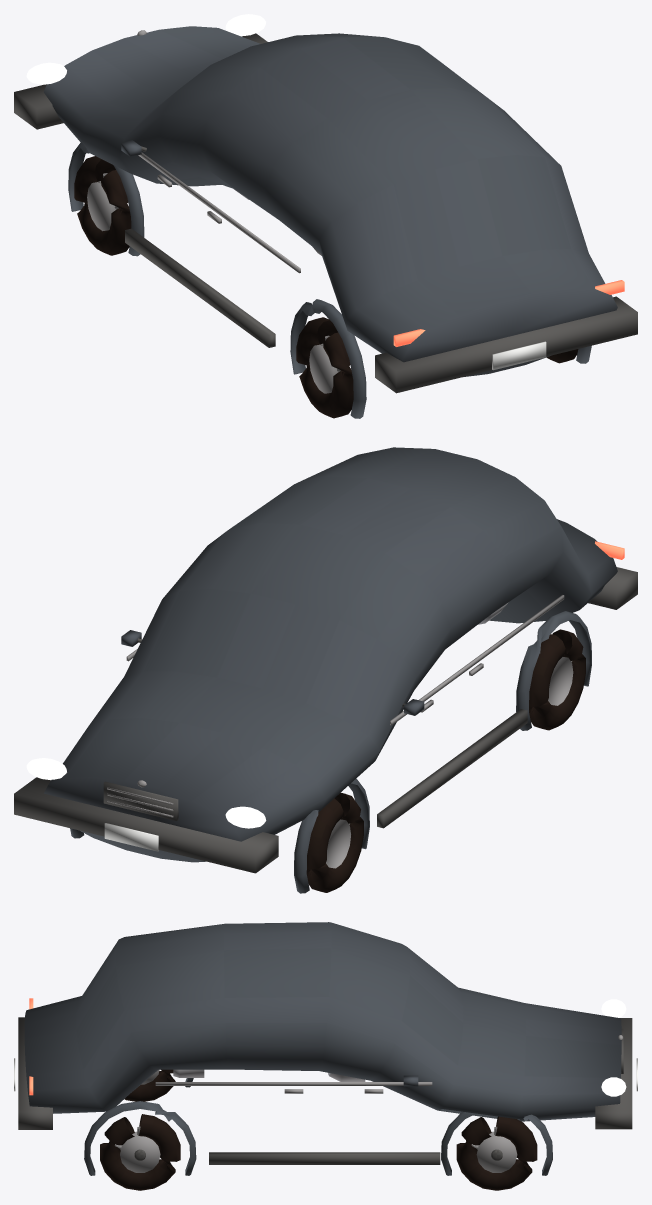
File: suv.glb
The picture shows the model from 3 angles, top to bottom: view 1: azimuth 30°, elevation 25°; view 2: azimuth 150°, elevation 25°; view 3: azimuth 270°, elevation 25°; orthographic projection. The views are drawn at different scales.
Visible parts, largest first — view 1: Body, WheelRL, WheelFL; view 2: Body, WheelRL, WheelFL; view 3: Body, WheelRR, WheelFR, WheelRL.
Boxes of the visible parts, x1=… form: Body: x1=14, y1=14, x2=637, y2=418; WheelRL: x1=296, y1=317, x2=353, y2=418; WheelFL: x1=74, y1=156, x2=131, y2=255; Body: x1=14, y1=447, x2=637, y2=893; WheelRL: x1=529, y1=629, x2=585, y2=730; WheelFL: x1=306, y1=792, x2=363, y2=892; Body: x1=14, y1=922, x2=637, y2=1175; WheelRR: x1=100, y1=1114, x2=180, y2=1190; WheelFR: x1=456, y1=1116, x2=537, y2=1190; WheelRL: x1=124, y1=1069, x2=175, y2=1101.
Bounding box in the file's own units: 2.21 × 1.84 × 5.07.
9 materials, 6 textured.
